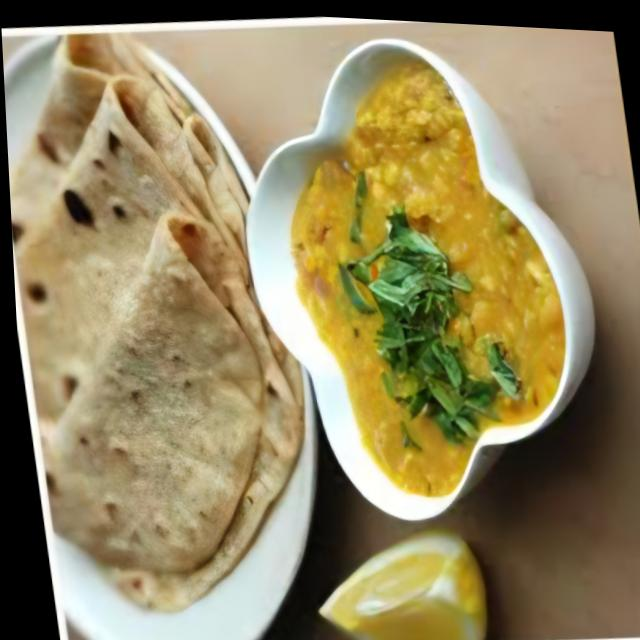CHAPATHI: (9, 30, 303, 614)
DAL: (285, 62, 566, 492)
